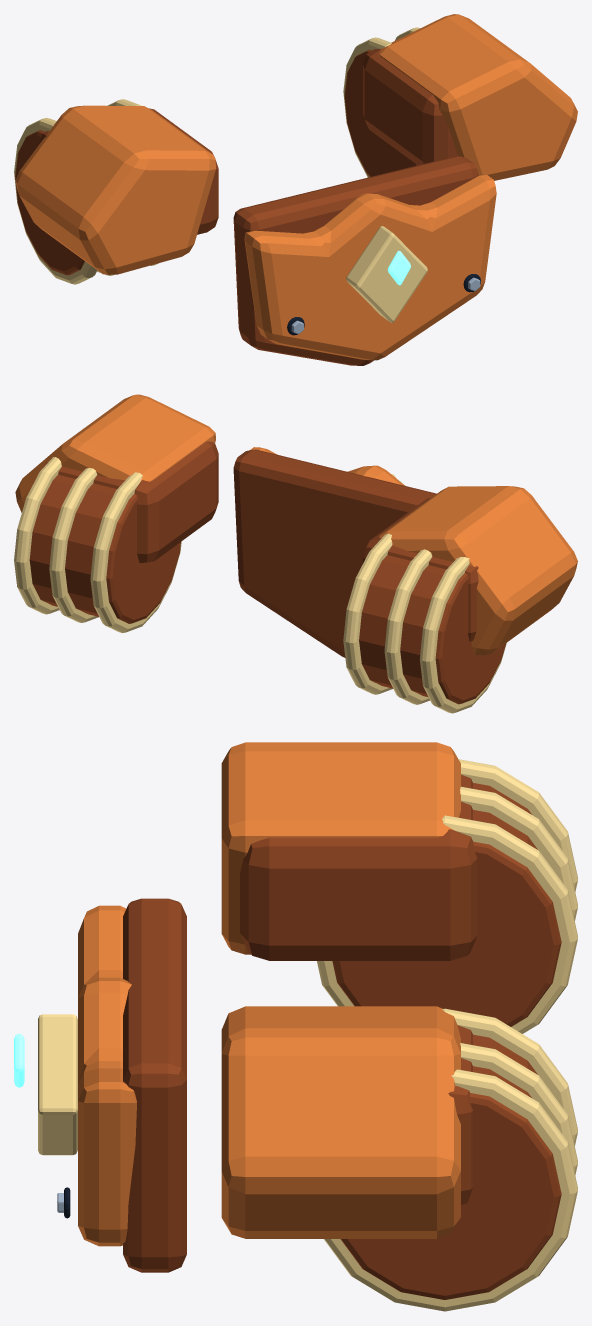
The model's file is winch_pack.glb.
3 views of the same model, one above another, from view 1: azimuth 30°, elevation 25°; view 2: azimuth 150°, elevation 25°; view 3: azimuth 270°, elevation 25° (orthographic). The views are drawn at different scales.
Parts seen in each view (by area): view 1: ModuleArmor; view 2: ModuleArmor; view 3: ModuleArmor.
Boxes of the visible parts, x1,y1,x2,y2 form: ModuleArmor: [14, 14, 577, 365]; ModuleArmor: [14, 394, 577, 713]; ModuleArmor: [14, 742, 577, 1311].
Size of the model in its own units: 1.69 by 0.7619 by 1.06.
